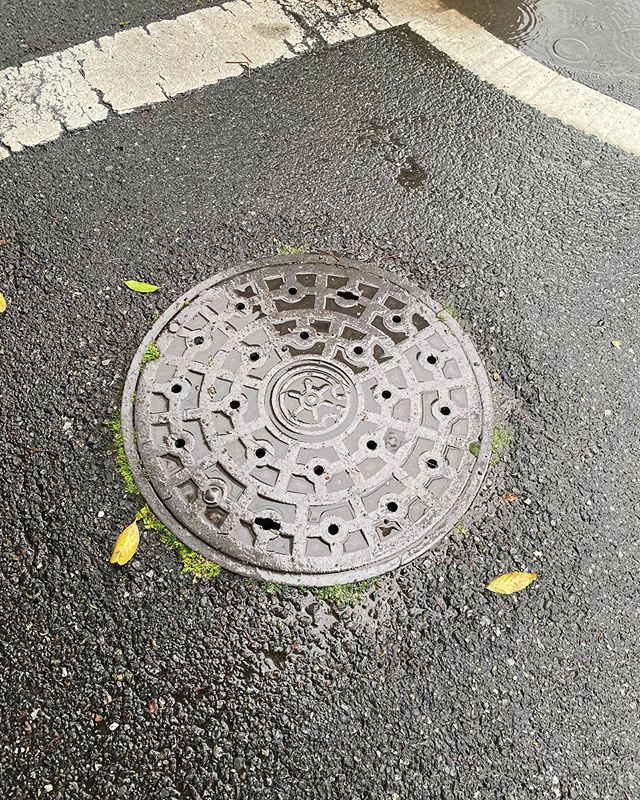manhole cover: (88, 197, 518, 611)
